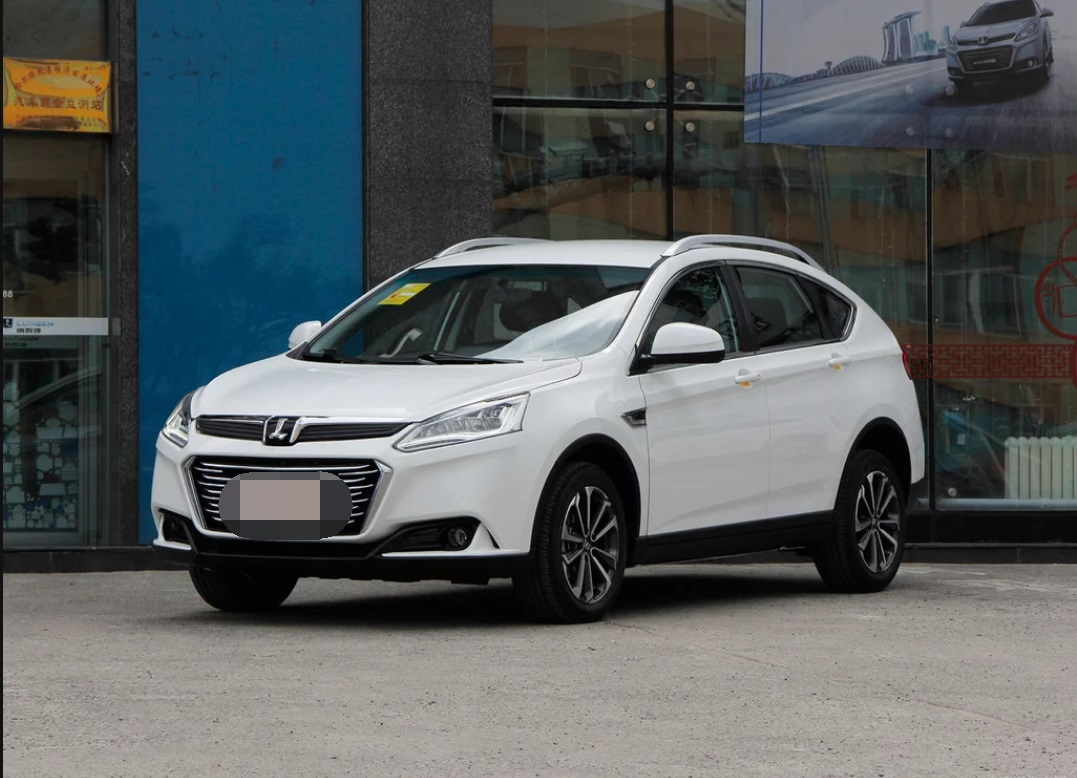SUV: (146, 231, 932, 625)
